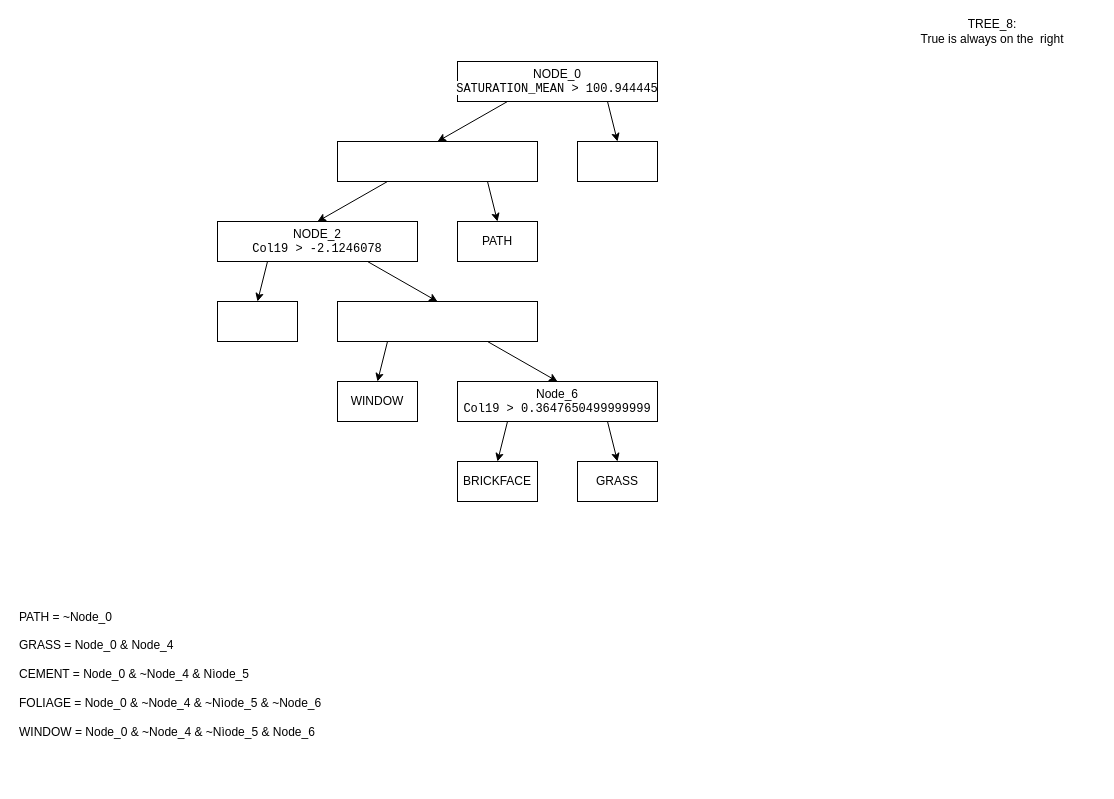
Image size: 1114x799. Some labels were removed from this diagram. Here are the shapes that lost their labels. From the top down, the centre of each, then its label:
pixel 437 161: NODE_1 SATURATION_MEAN > 36.7222225
pixel 617 161: SKY
pixel 257 321: FOLIAGE
pixel 437 321: Node_4 HEDGE_SD > 0.583333465
